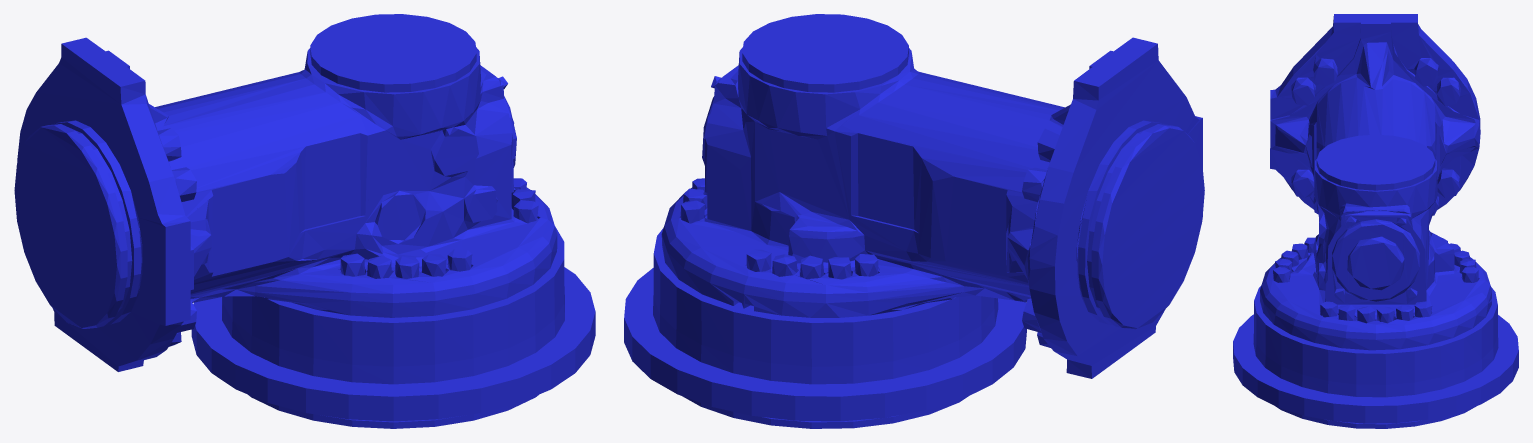
3 views of the same model, side by side, from view 1: azimuth 30°, elevation 25°; view 2: azimuth 150°, elevation 25°; view 3: azimuth 270°, elevation 25° (orthographic). The views are drawn at different scales.
Parts seen in each view (by area): view 1: /Link4/Link4_003-mesh/0; view 2: /Link4/Link4_003-mesh/0; view 3: /Link4/Link4_003-mesh/0.
Boxes of the visible parts, left/top/right/bottom form: /Link4/Link4_003-mesh/0: left=14, top=14, right=595, bottom=428; /Link4/Link4_003-mesh/0: left=624, top=14, right=1204, bottom=428; /Link4/Link4_003-mesh/0: left=1233, top=14, right=1518, bottom=428.
Bounding box in the file's own units: 0.3188 × 0.2301 × 0.2214.
